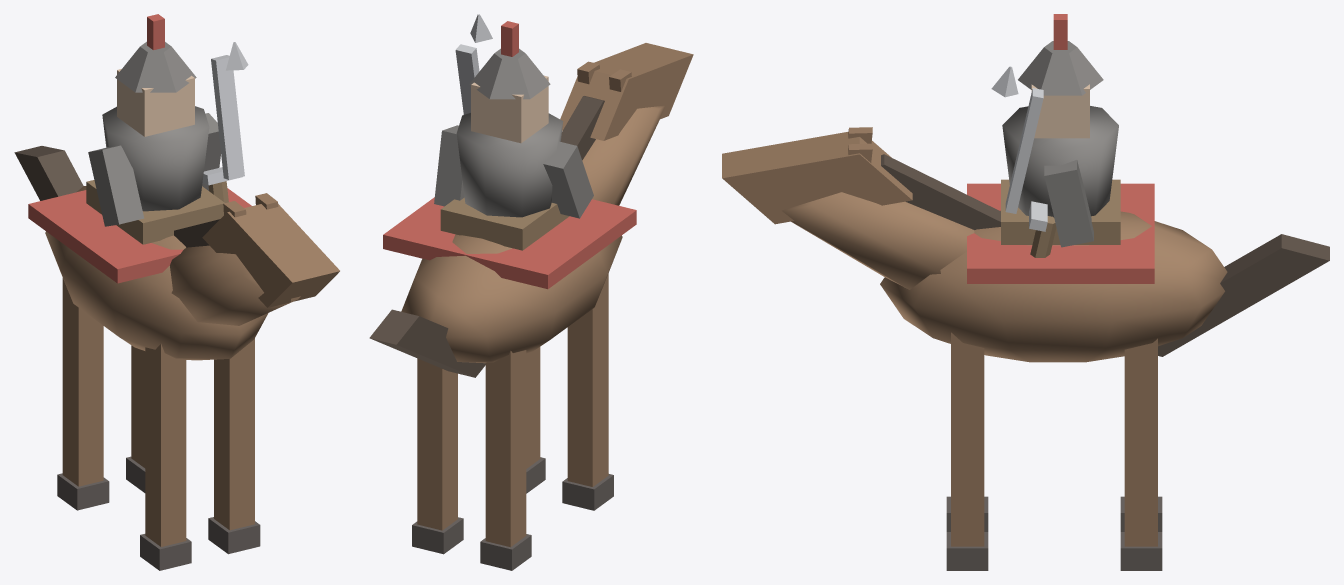
File: troop-cavalry.glb
3 renders of one model, left to right at view 1: azimuth 30°, elevation 25°; view 2: azimuth 150°, elevation 25°; view 3: azimuth 270°, elevation 25°, orthographic. The views are drawn at different scales.
Visible parts, largest first — view 1: body, leg_fl, head, leg_bl, leg_fr, rider, saddle_cloth, neck, rider_head, rider_arm_l, saddle, helmet (+10 smaller); view 2: body, saddle_cloth, leg_bl, rider, leg_fl, leg_br, head, neck, saddle, tail, rider_head, helmet (+10 smaller); view 3: body, head, neck, saddle_cloth, leg_fr, leg_br, rider, tail, mane, rider_arm_r, helmet, saddle (+4 smaller).
Part boxes in pixels (x1,y1,x2,y2): body: (45, 186, 268, 360); leg_fl: (145, 344, 186, 546); head: (202, 204, 339, 307); leg_bl: (62, 278, 103, 486); leg_fr: (214, 338, 254, 530); rider: (102, 106, 209, 211); saddle_cloth: (28, 188, 251, 283); neck: (170, 245, 300, 325); rider_head: (117, 69, 194, 136); rider_arm_l: (88, 145, 144, 226); saddle: (86, 180, 224, 244); helmet: (115, 41, 196, 92); body: (401, 234, 622, 363); saddle_cloth: (383, 197, 636, 289); leg_bl: (485, 350, 526, 547); rider: (456, 113, 563, 217); leg_fl: (567, 273, 608, 486); leg_br: (417, 358, 457, 530); head: (560, 43, 693, 140); neck: (582, 105, 665, 205); saddle: (440, 197, 569, 250); tail: (369, 309, 485, 377); rider_head: (471, 75, 548, 143); helmet: (469, 48, 550, 99); body: (880, 210, 1227, 362); head: (722, 131, 912, 224); neck: (782, 192, 974, 289); saddle_cloth: (967, 183, 1154, 283); leg_fr: (951, 332, 984, 546); leg_br: (1124, 338, 1157, 546); rider: (1002, 106, 1118, 217); tail: (1158, 234, 1329, 356); mane: (881, 154, 1000, 230); rider_arm_r: (1044, 160, 1093, 247); helmet: (1018, 41, 1103, 95); saddle: (1001, 179, 1120, 244).
Bounding box in the file's own units: 0.145 × 0.419 × 0.4369.
